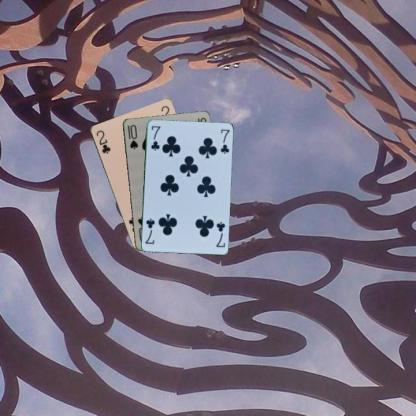10s: (127, 122, 139, 150)
2c: (94, 128, 112, 155)
7c: (213, 219, 226, 248), (149, 123, 161, 151)
